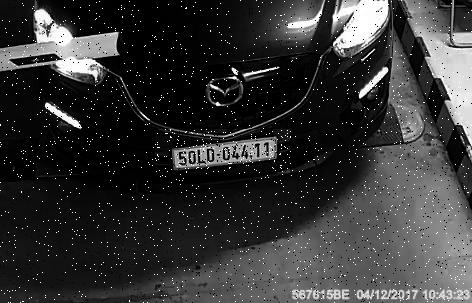License-plate: (157, 130, 293, 174)
